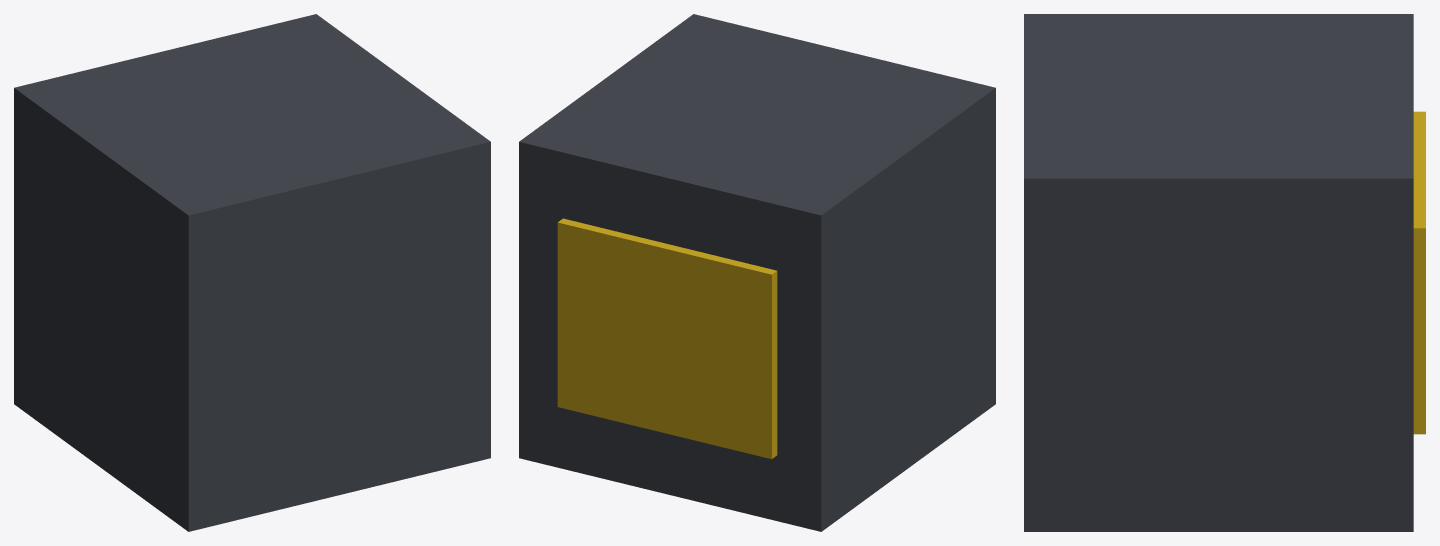
Rendered from logic_gate_xnor_v0.glb.
3 renders of one model, left to right at view 1: azimuth 30°, elevation 25°; view 2: azimuth 150°, elevation 25°; view 3: azimuth 270°, elevation 25°, orthographic. The views are drawn at different scales.
Parts seen in each view (by area): view 1: logic_gate_xnor_v0; view 2: logic_gate_xnor_v0; view 3: logic_gate_xnor_v0.
Boxes of the visible parts, bbox=[...] form: logic_gate_xnor_v0: bbox=[14, 14, 490, 531]; logic_gate_xnor_v0: bbox=[519, 14, 995, 531]; logic_gate_xnor_v0: bbox=[1024, 14, 1425, 531].
Size of the model in its own units: 0.48 by 0.48 by 0.495.
